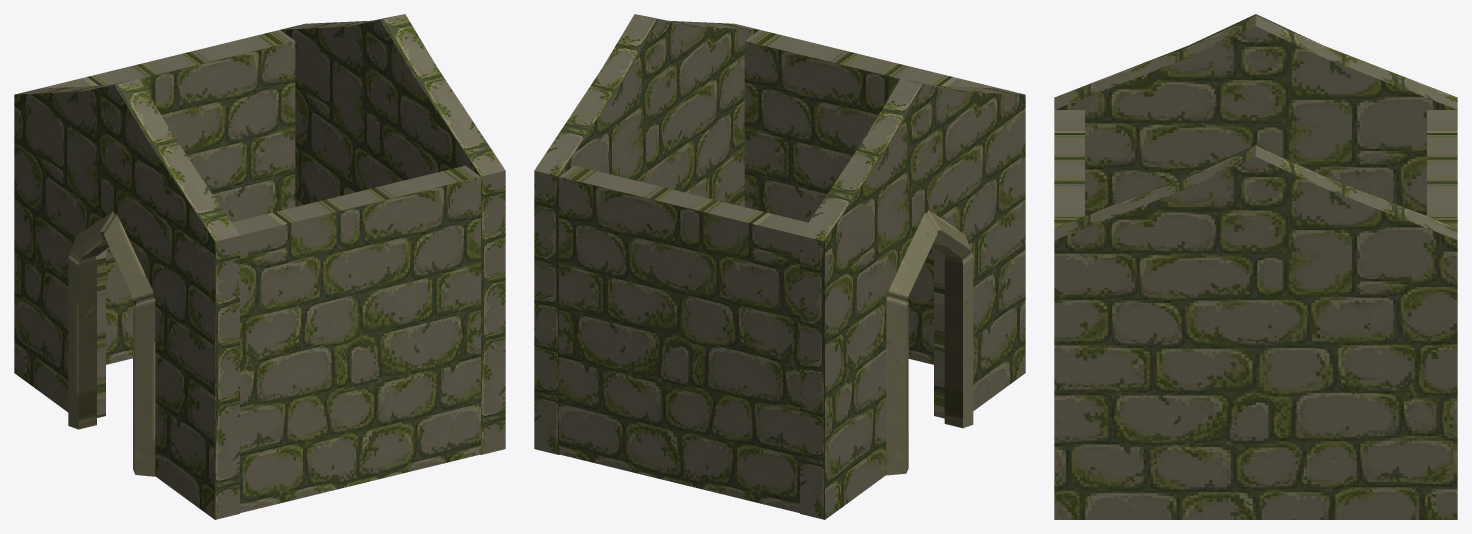
File: Key_Room.fbx
3 views of the same model, side by side, from view 1: azimuth 30°, elevation 25°; view 2: azimuth 150°, elevation 25°; view 3: azimuth 270°, elevation 25° (orthographic).
Visible parts, largest first — view 1: Plane.010; view 2: Plane.010; view 3: Plane.010.
Boxes of the visible parts, bbox=[...] form: Plane.010: bbox=[14, 14, 505, 519]; Plane.010: bbox=[534, 14, 1025, 519]; Plane.010: bbox=[1054, 14, 1457, 519].
Size of the model in its own units: 595 by 676 by 680.
